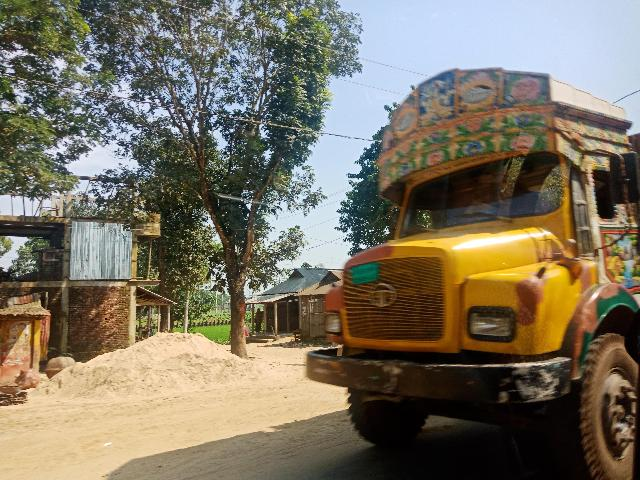truck: (290, 67, 640, 480)
